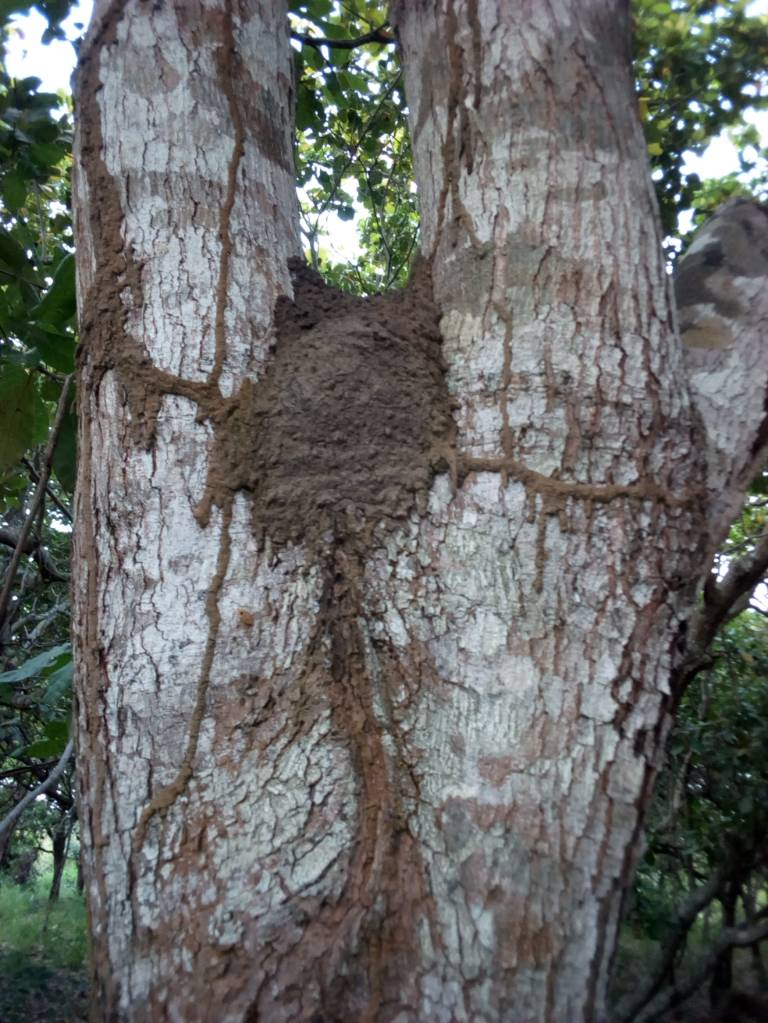Termites: (75, 64, 229, 503), (241, 264, 461, 557), (499, 450, 729, 524)
